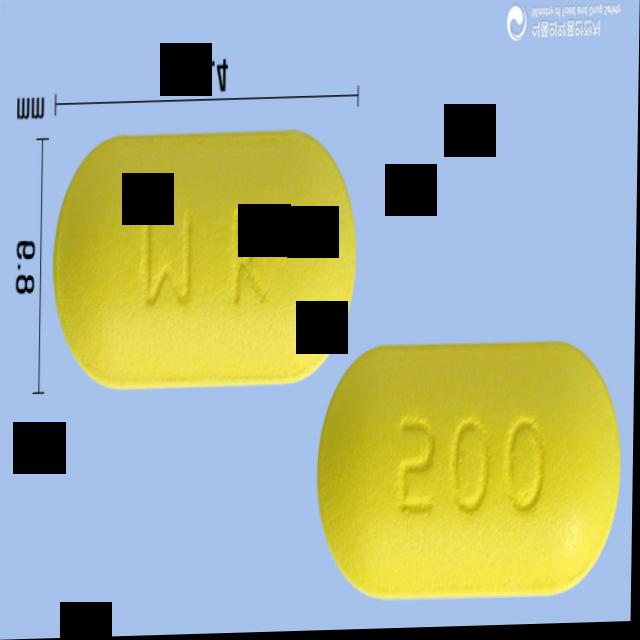Craycin: (52, 132, 360, 394), (318, 345, 625, 604)
